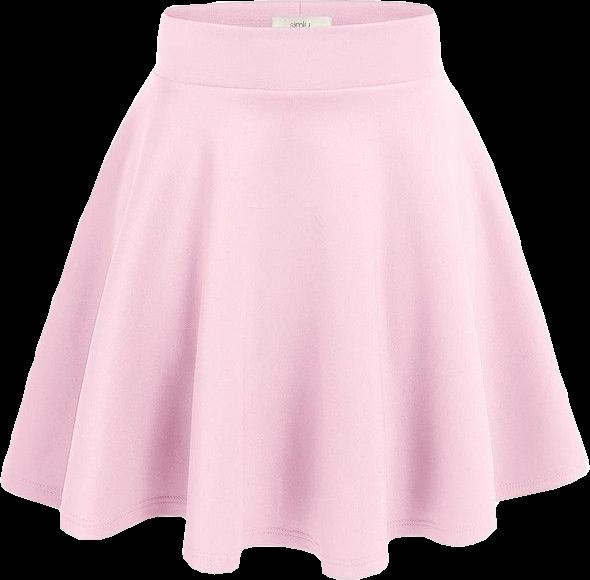Hemline: (0, 468, 589, 579)
Waistline: (149, 64, 447, 95), (159, 7, 439, 32)
